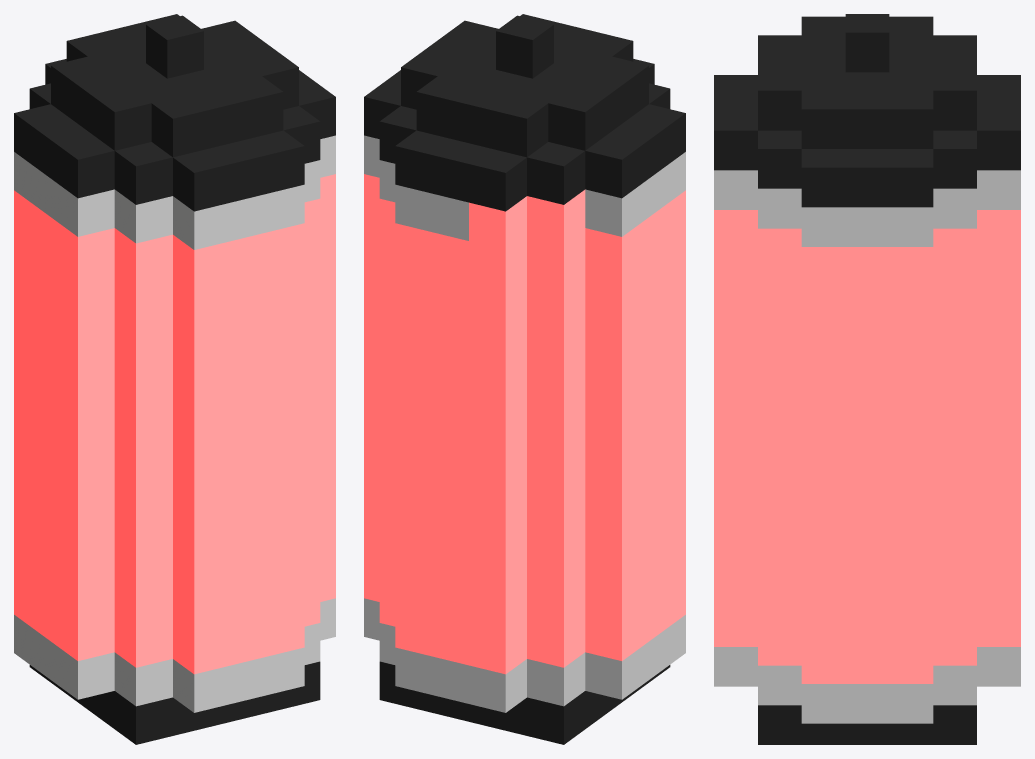
File: lantern.glb
3 views of the same model, side by side, from view 1: azimuth 30°, elevation 25°; view 2: azimuth 150°, elevation 25°; view 3: azimuth 270°, elevation 25° (orthographic). The views are drawn at different scales.
Parts seen in each view (by area): view 1: ObjObject; view 2: ObjObject; view 3: ObjObject.
Boxes of the visible parts, bbox=[...] form: ObjObject: bbox=[14, 14, 335, 744]; ObjObject: bbox=[364, 14, 685, 744]; ObjObject: bbox=[714, 14, 1020, 744].
Size of the model in its own units: 0.7 by 1.7 by 0.7.
2 materials, 1 textured.
